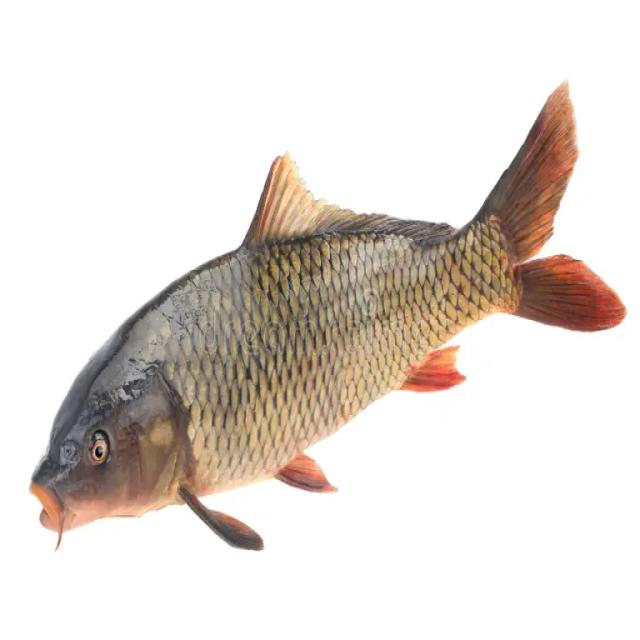Common carp: (28, 83, 627, 551)
